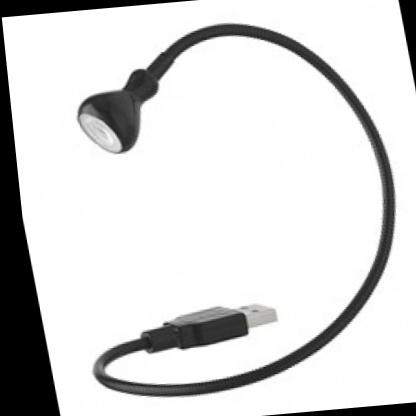Lamp: (20, 9, 416, 412)
